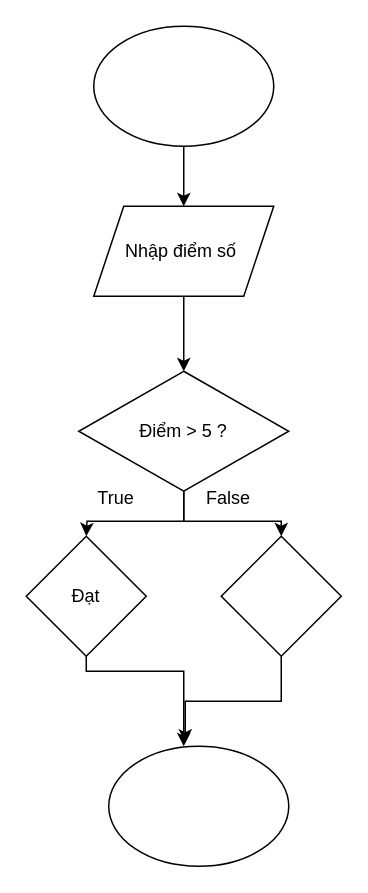
This 368x893 diagram has some shape labels left out. Each missing label, with the box of its shape:
End: (107, 745, 289, 866)
Start: (92, 25, 274, 146)
